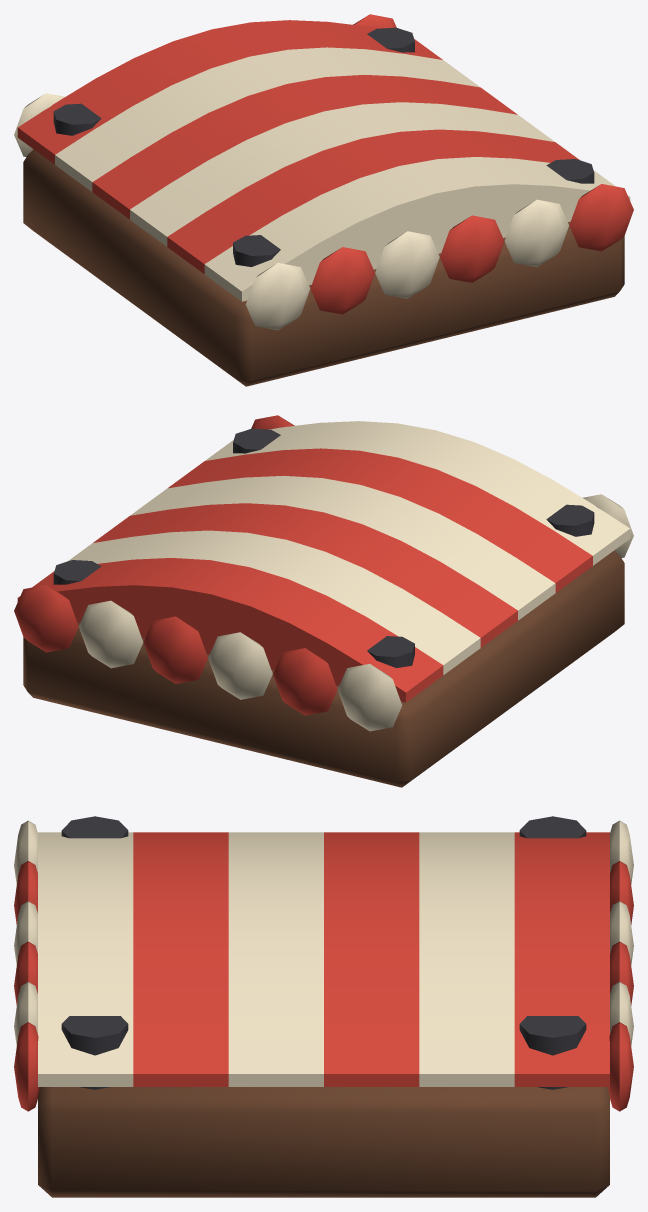
The model's file is tide_awning.glb.
3 views of the same model, one above another, from view 1: azimuth 30°, elevation 25°; view 2: azimuth 150°, elevation 25°; view 3: azimuth 270°, elevation 25° (orthographic). The views are drawn at different scales.
Visible parts, largest first — view 1: tide_awning; view 2: tide_awning; view 3: tide_awning.
Part boxes in pixels (x1,y1,x2,y2): tide_awning: [14, 14, 633, 386]; tide_awning: [14, 415, 633, 787]; tide_awning: [14, 816, 633, 1197].
Size of the model in its own units: 1.2 by 0.45 by 1.3.
